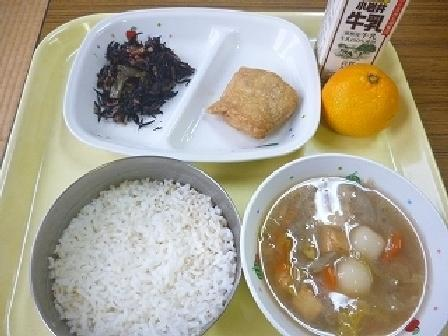Citrus: (319, 60, 412, 139)
Milk: (303, 0, 425, 71)
Rice: (36, 163, 242, 334)
Soups: (245, 165, 438, 334)
pastry: (209, 55, 309, 140)
salad with sauce: (93, 27, 190, 127)
